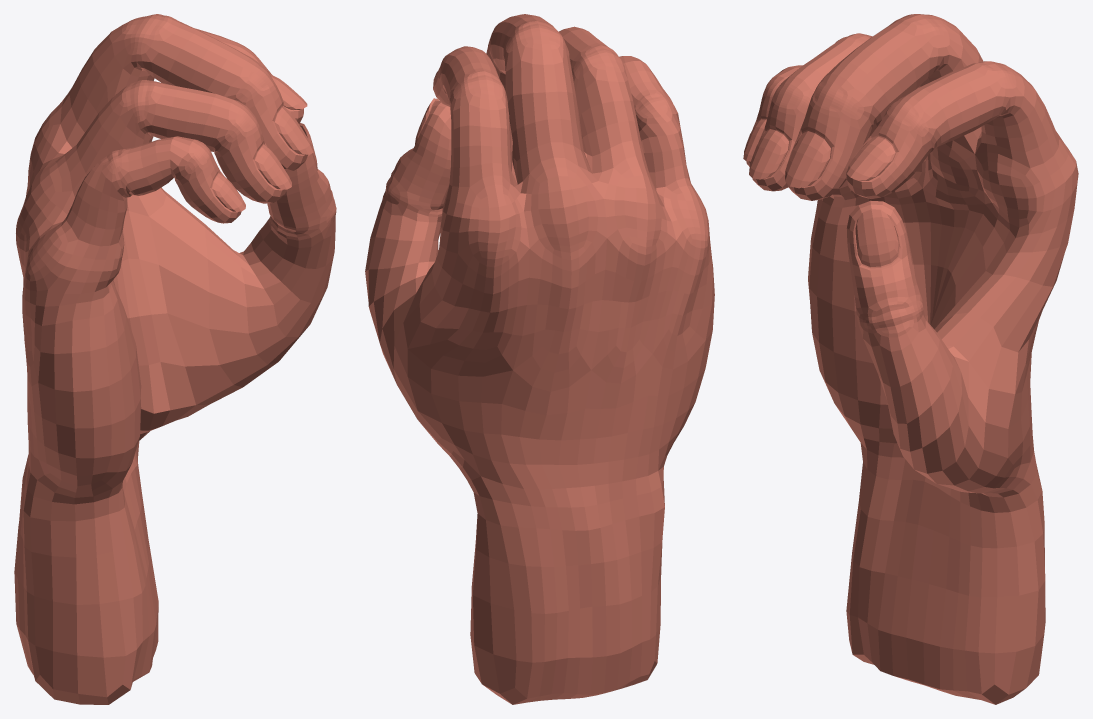
The model's file is wao.glb.
3 views of the same model, side by side, from view 1: azimuth 30°, elevation 25°; view 2: azimuth 150°, elevation 25°; view 3: azimuth 270°, elevation 25° (orthographic). The views are drawn at different scales.
Visible parts, largest first — view 1: ZBrushPolyMesh3D; view 2: ZBrushPolyMesh3D; view 3: ZBrushPolyMesh3D.
Boxes of the visible parts, <box> form: ZBrushPolyMesh3D: <box>14,14,336,704</box>; ZBrushPolyMesh3D: <box>365,14,714,704</box>; ZBrushPolyMesh3D: <box>743,14,1078,704</box>.
Size of the model in its own units: 2.3 by 4.44 by 1.97.
